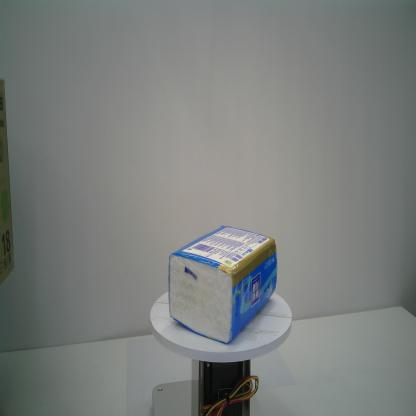Tissue: (166, 224, 280, 344)
